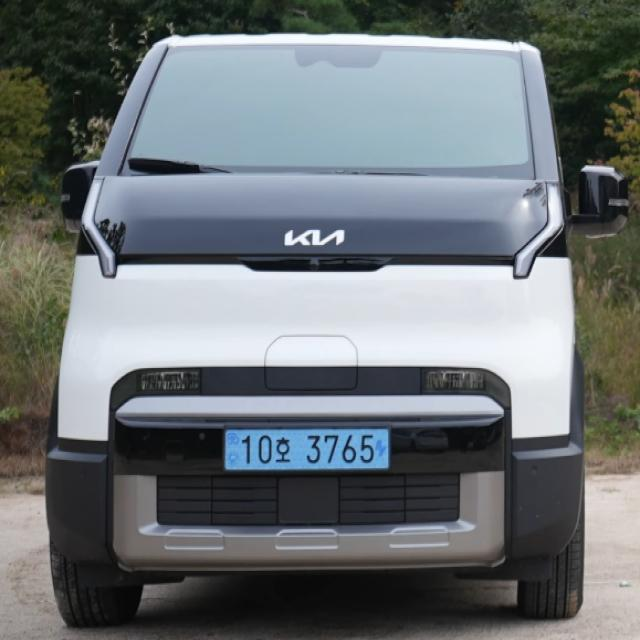car: (198, 414, 421, 486)
carev: (220, 423, 243, 482), (373, 423, 394, 474)
